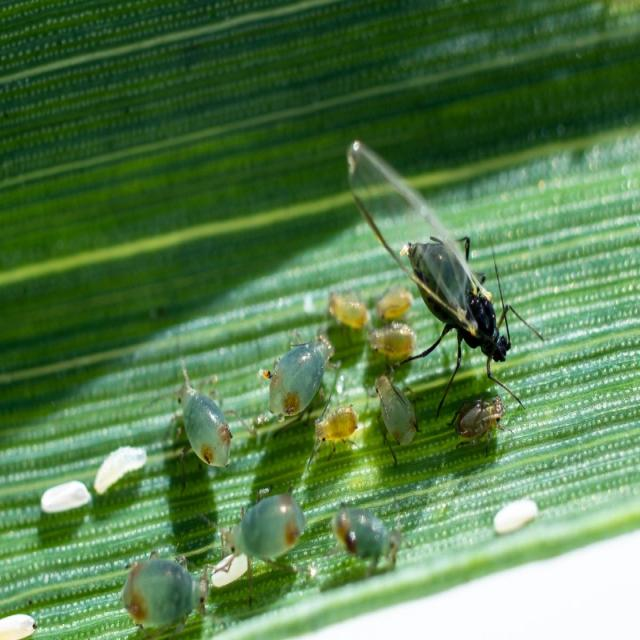Aphid-Grown-: (254, 322, 339, 434), (210, 487, 306, 584), (320, 494, 414, 586), (108, 553, 214, 633), (167, 368, 240, 481), (361, 365, 426, 459), (440, 387, 514, 456), (363, 315, 425, 377), (304, 403, 365, 464), (324, 284, 376, 346)
Aphid-Grown-have wings-: (345, 132, 535, 387)
